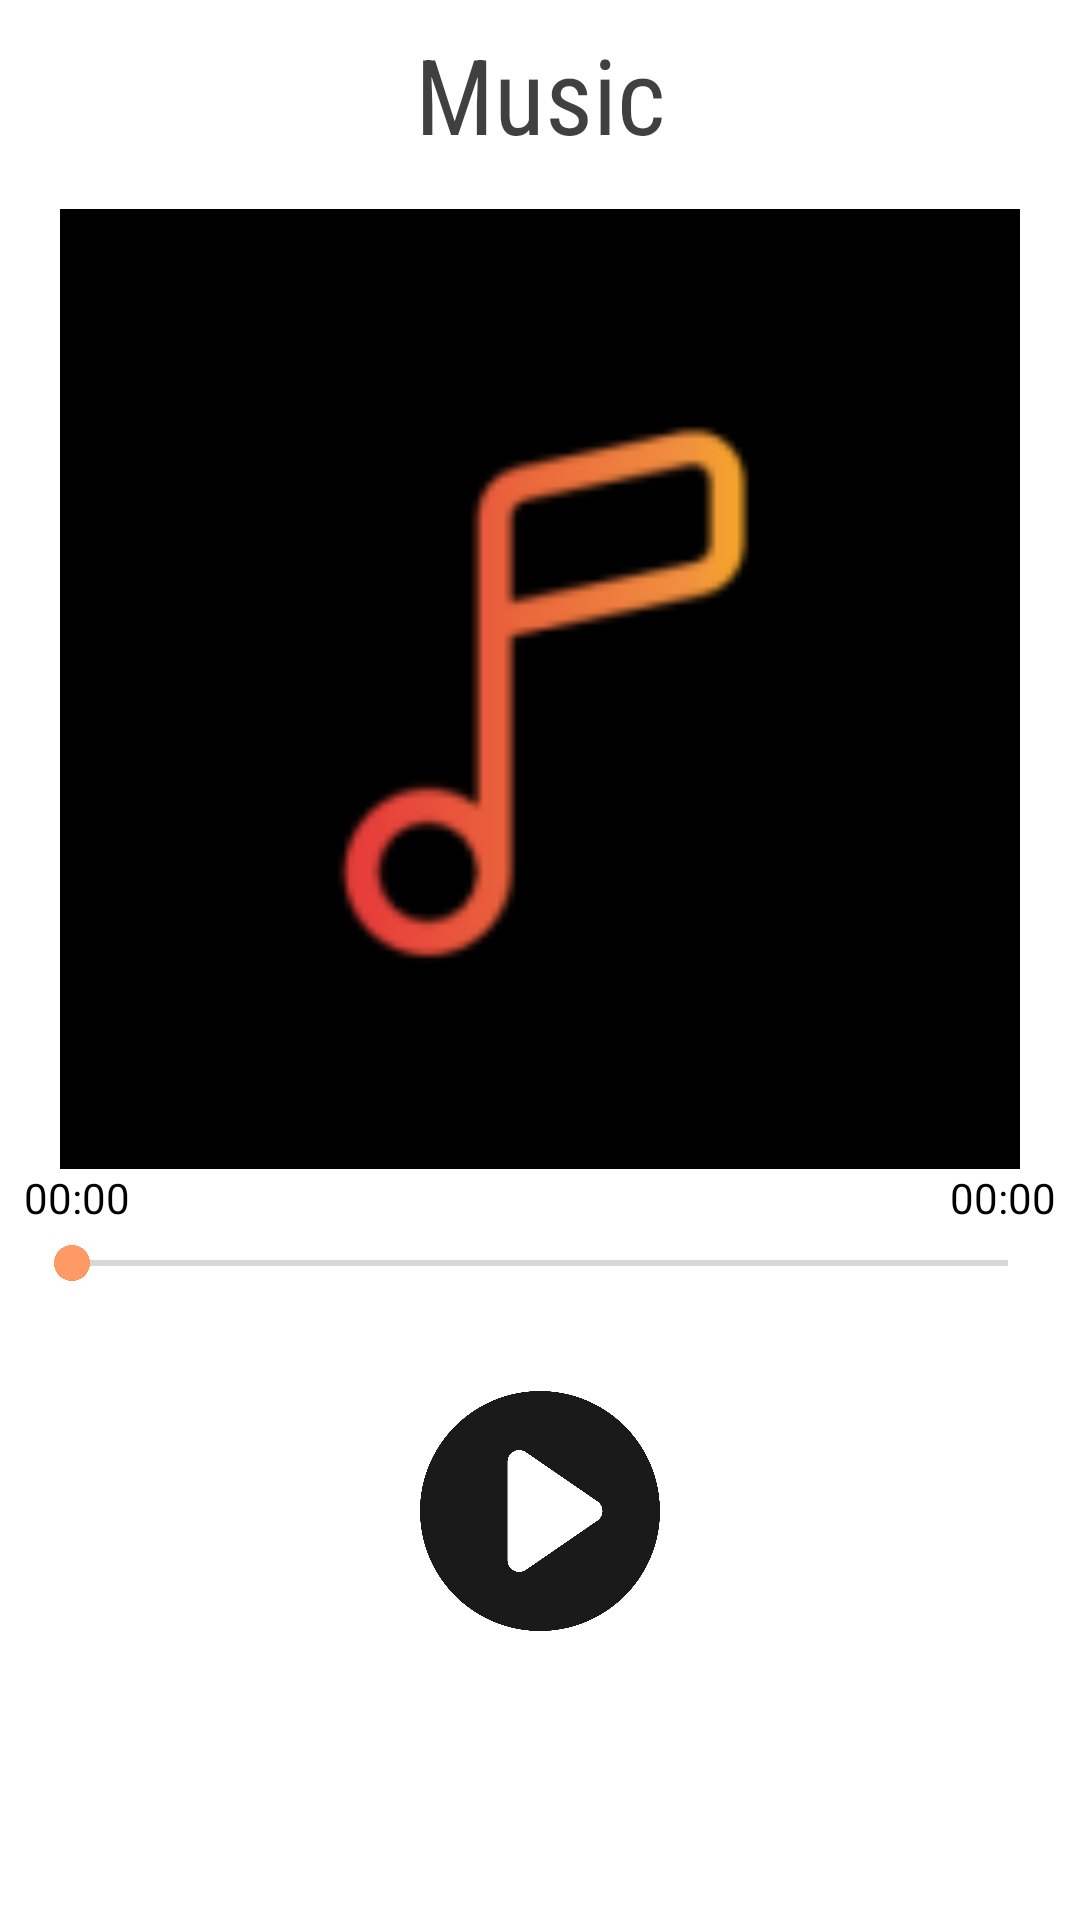

Where to tap for icons on this 1080*1920 app screen, as [x,y]:
online play: [540,1511]
